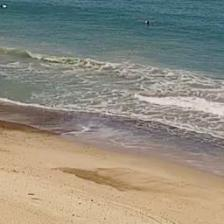surfer: (146, 20, 150, 25), (1, 4, 3, 9)
